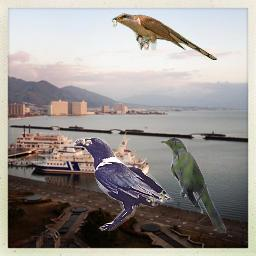Crow: (73, 137, 174, 231)
Cuckoo: (161, 137, 229, 233), (110, 13, 217, 60)
